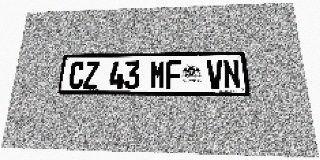3: (124, 61, 140, 89)
4: (109, 61, 125, 89)
C: (68, 61, 85, 89)
F: (166, 60, 181, 89)
M: (150, 60, 166, 89)
N: (223, 59, 241, 89)
V: (206, 60, 224, 89)
Z: (83, 61, 100, 89)
